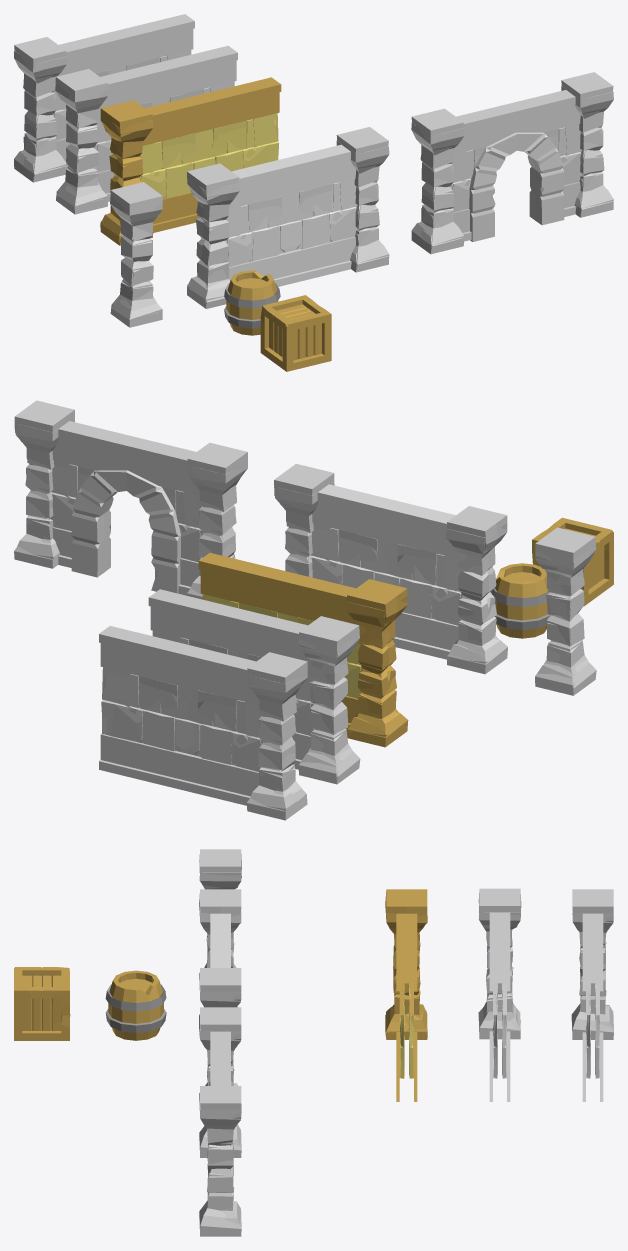
File: modular_shooter_game.fbx
3 views of the same model, one above another, from view 1: azimuth 30°, elevation 25°; view 2: azimuth 150°, elevation 25°; view 3: azimuth 270°, elevation 25° (orthographic). The views are drawn at different scales.
Parts seen in each view (by area): view 1: door, wall.001, wall, wall.002, wall.003, pillar2.001, pillar1, pillar3, crate, pillar2, barrel; view 2: wall.003, door, wall, wall.002, wall.001, pillar3, pillar1, pillar2.001, pillar2, barrel, crate; view 3: door, wall.001, wall.002, wall.003, crate, barrel, pillar2.001, pillar1, pillar2, pillar3, wall.
Part boxes in pixels (x1,y1,x2,y2): door: (450,72,613,241); wall.001: (100,77,281,245); wall: (225,144,357,286); wall.002: (55,45,237,214); wall.003: (14,14,194,182); pillar2.001: (411,108,464,254); pillar1: (110,182,162,327); pillar3: (187,163,239,308); crate: (260,295,331,371); pillar2: (336,127,389,272); barrel: (224,270,280,335); wall.003: (99,626,307,820); door: (14,400,203,595); wall: (311,484,462,659); wall.002: (148,589,360,784); wall.001: (198,552,408,747); pillar3: (445,506,507,674); pillar1: (535,527,596,695); pillar2.001: (187,442,247,599); pillar2: (274,463,334,577); barrel: (491,563,549,638); crate: (532,517,613,606); door: (199,1031,241,1236); wall.001: (385,889,427,1101); wall.002: (478,888,521,1101); wall.003: (571,889,613,1101); crate: (14,967,70,1040); barrel: (105,970,166,1040); pillar2.001: (199,1007,241,1157); pillar1: (199,849,241,999); pillar2: (199,968,241,1118); pillar3: (199,889,241,1039); wall: (210,913,230,967).
Size of the model in its own units: 1296 by 320 by 1289.
